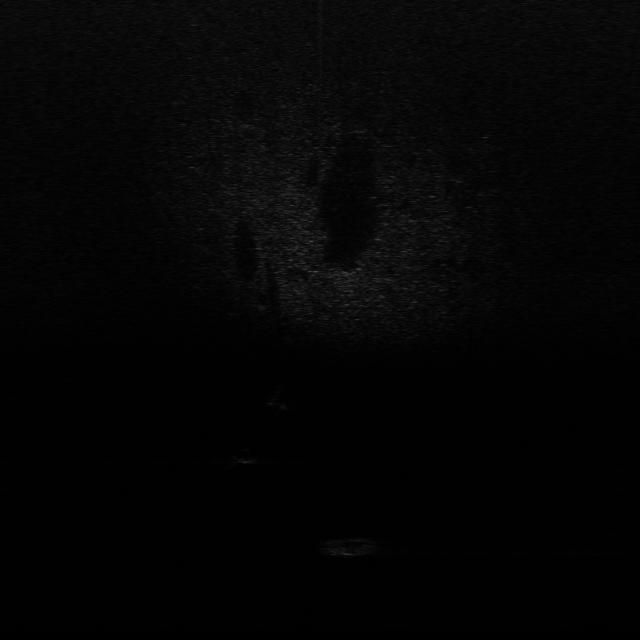ball: (236, 444, 260, 467)
circle cage: (318, 532, 383, 560)
human body: (264, 381, 290, 423)
